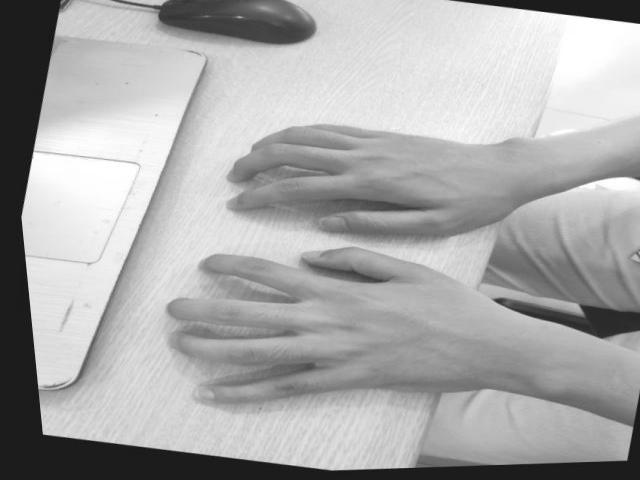not-gloved: (166, 244, 494, 404), (225, 123, 500, 238)
